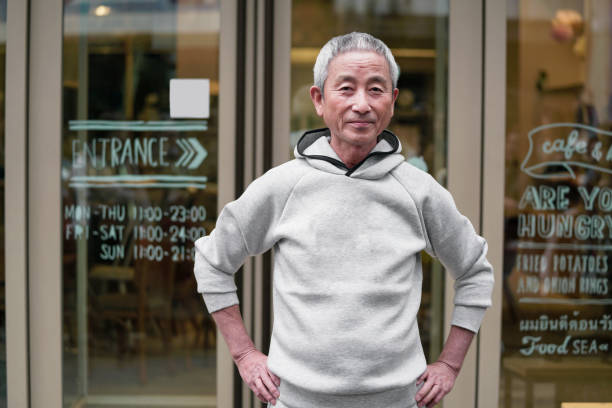person: (308, 32, 400, 150)
